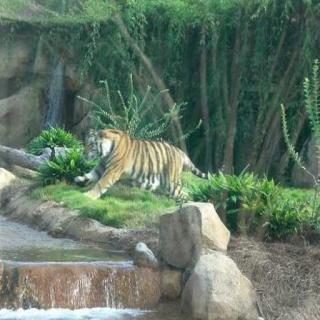Tiger: (75, 120, 208, 212)
